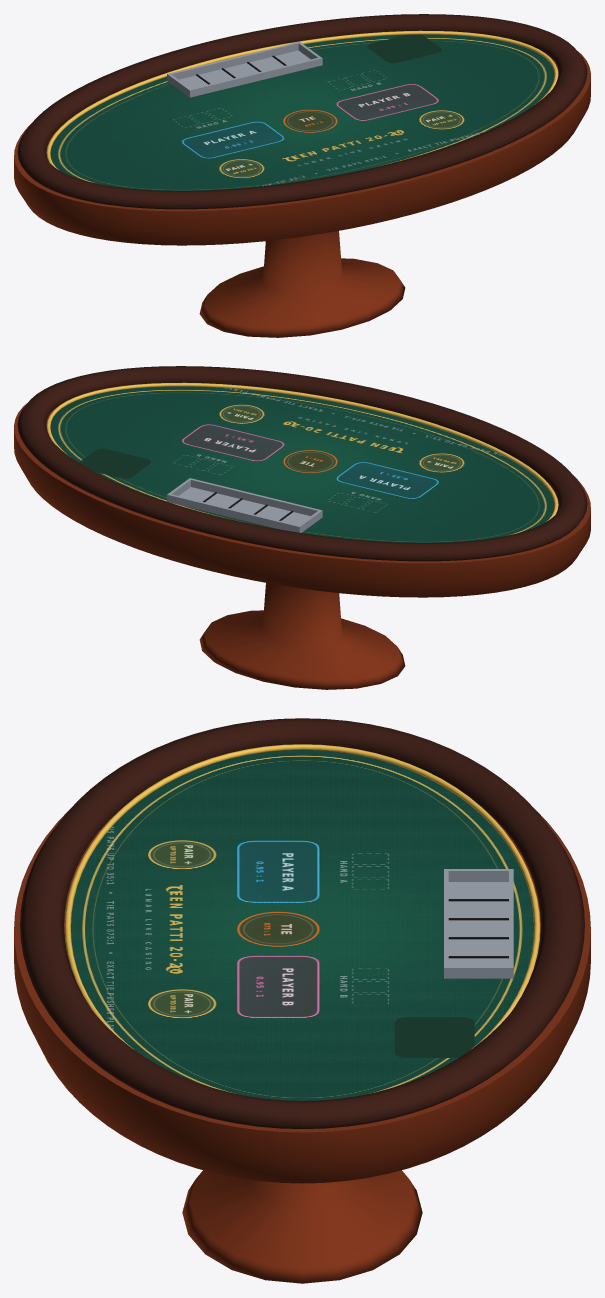
The model's file is table.glb.
3 views of the same model, one above another, from view 1: azimuth 30°, elevation 25°; view 2: azimuth 150°, elevation 25°; view 3: azimuth 270°, elevation 25° (orthographic). The views are drawn at different scales.
Visible parts, largest first — view 1: Felt, Rail, Apron, Pedestal, DealerTray, RailTrim, TableTop, Spot_playerA, Spot_playerB, ShoeWell, Spot_tie, Spot_pairPlusA (+1 smaller); view 2: Felt, Rail, Apron, Pedestal, DealerTray, RailTrim, TableTop, Spot_playerA, Spot_playerB, ShoeWell, Spot_tie, Spot_pairPlusB (+1 smaller); view 3: Felt, Rail, Apron, Pedestal, DealerTray, TableTop, RailTrim, Spot_playerB, Spot_playerA, ShoeWell, Spot_tie, Spot_pairPlusA (+1 smaller).
Part boxes in pixels (x1,y1,x2,y2): Felt: (50,34,554,190); Rail: (17,14,587,209); Apron: (14,51,590,245); Pedestal: (199,231,405,337); DealerTray: (167,41,322,97); RailTrim: (46,30,558,169); TableTop: (14,52,590,211); Spot_playerA: (184,122,281,156); Spot_playerB: (338,84,436,118); ShoeWell: (367,34,441,63); Spot_tie: (285,110,335,131); Spot_pairPlusA: (221,159,262,176); Felt: (50,386,554,542); Rail: (17,366,587,561); Apron: (14,403,590,597); Pedestal: (199,583,405,689); DealerTray: (167,478,322,532); RailTrim: (46,382,558,521); TableTop: (14,404,590,563); Spot_playerA: (338,463,436,497); Spot_playerB: (184,425,281,459); ShoeWell: (79,448,150,478); Spot_tie: (285,450,335,471); Spot_pairPlusB: (221,405,262,422); Felt: (71,750,533,1100); Rail: (20,718,584,1128); Apron: (14,809,590,1183); Pedestal: (182,1170,422,1283); DealerTray: (444,869,513,978); TableTop: (14,808,590,1132); RailTrim: (64,744,540,1049); Spot_playerB: (239,956,317,1016); Spot_playerA: (239,841,317,900); ShoeWell: (394,1017,474,1057); Spot_tie: (239,912,317,945); Spot_pairPlusA: (150,840,214,867).
Bounding box in the file's own units: 2.4 × 0.8261 × 1.44.
11 materials, 1 textured.
